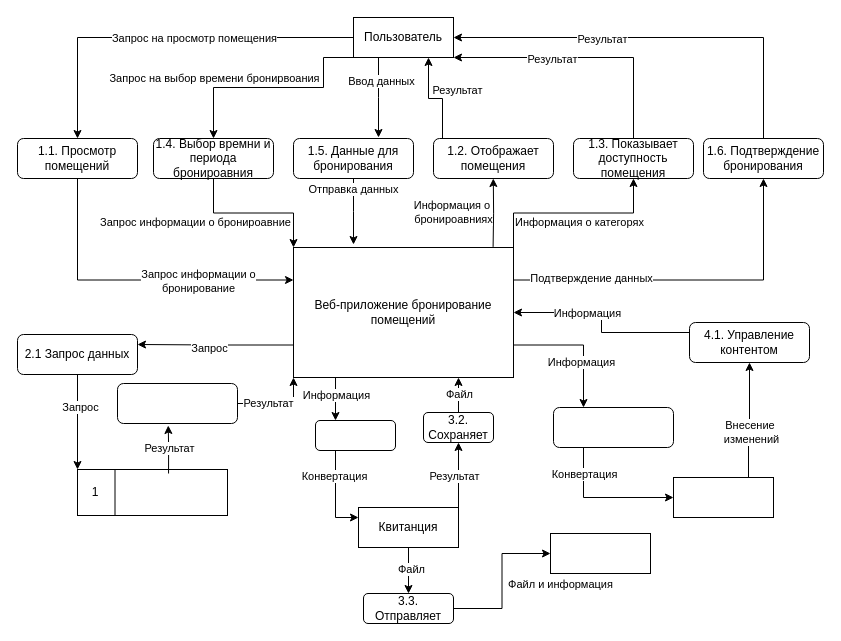
The diagram is 841 pixels wide and 641 high, and some of its shapes have lost their labels. Each missing label, with the box of its shape:
2.2 Возврат данных: (116, 382, 238, 424)
3.1. Генерирует: (314, 420, 396, 450)
4.2. Отчёты и аналитика: (552, 406, 674, 448)
Администратор: (672, 476, 774, 518)
База данных: (76, 468, 228, 516)
Почта: (550, 532, 650, 574)
